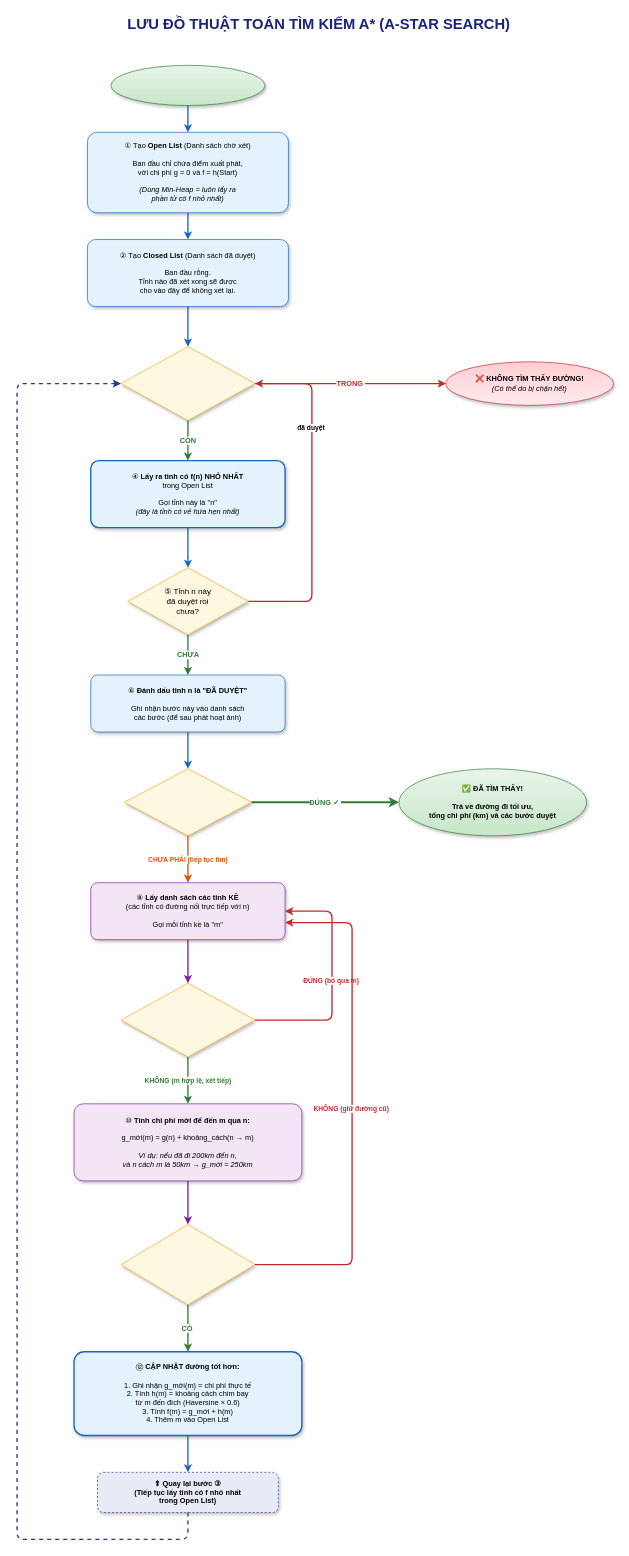
The diagram is 629 pixels wide and 1556 high, and some of its shapes have lost their labels. Here are the shapes that lost their labels. From the top down, the centre of each, then its label:
pixel 188 86: BẮT ĐẦU
pixel 188 384: ③ Open List CÒN tỉnh nào không?
pixel 188 803: ⑦ Tỉnh n có phải là ĐIỂM ĐÍCH không?
pixel 188 1021: ⑨ Với mỗi tỉnh kề m: m đã duyệt rồi HOẶC đường n→m bị chặn?
pixel 188 1265: ⑪ Đường mới này có TỐT HƠN đường cũ đến m không?
